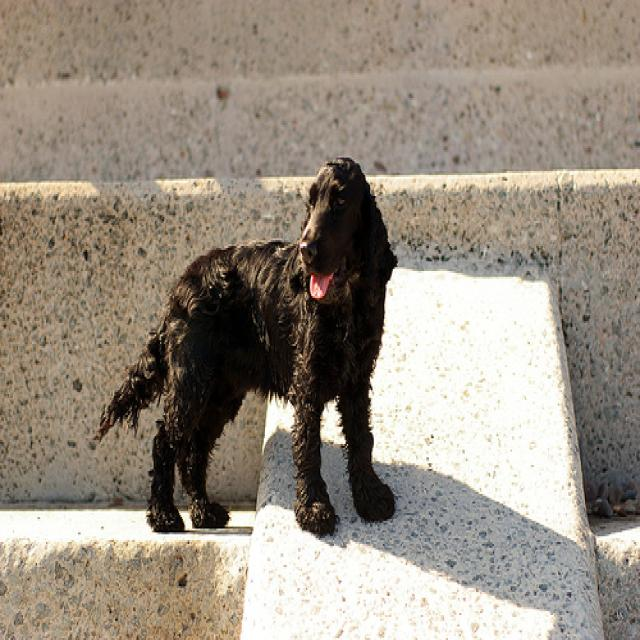dog: (287, 156, 385, 315)
